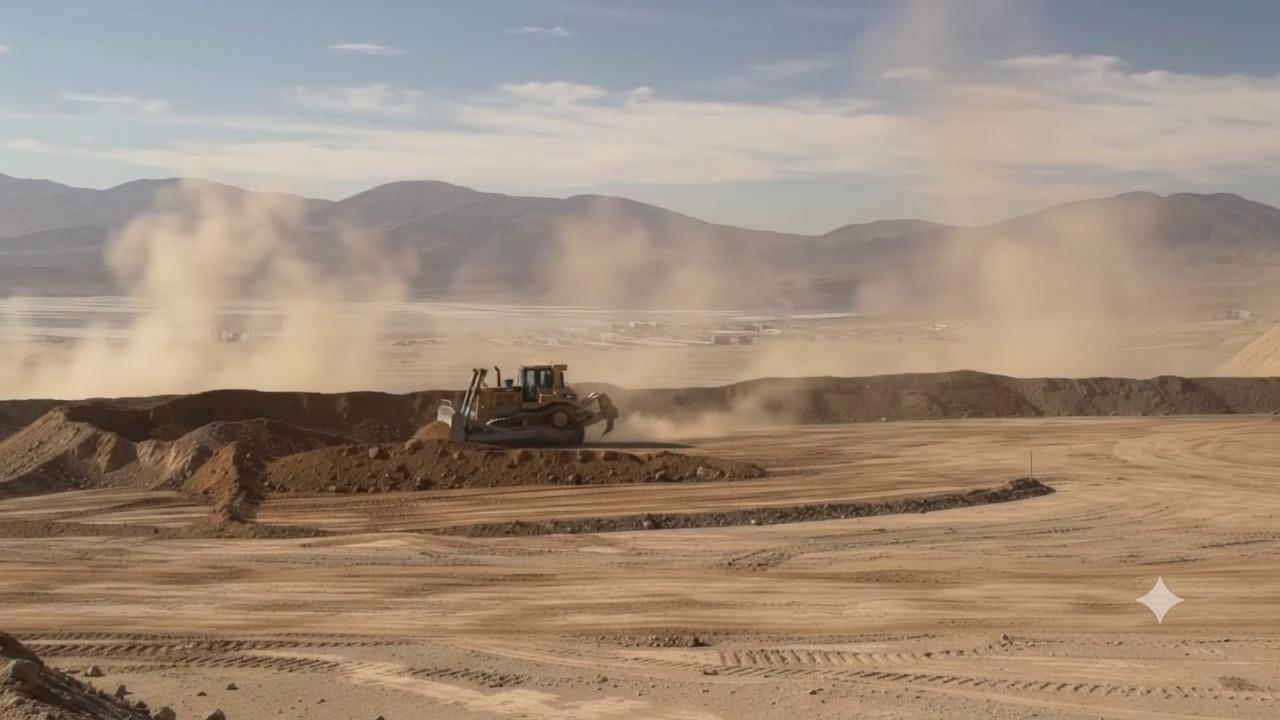CAEX: (452, 364, 618, 448)
